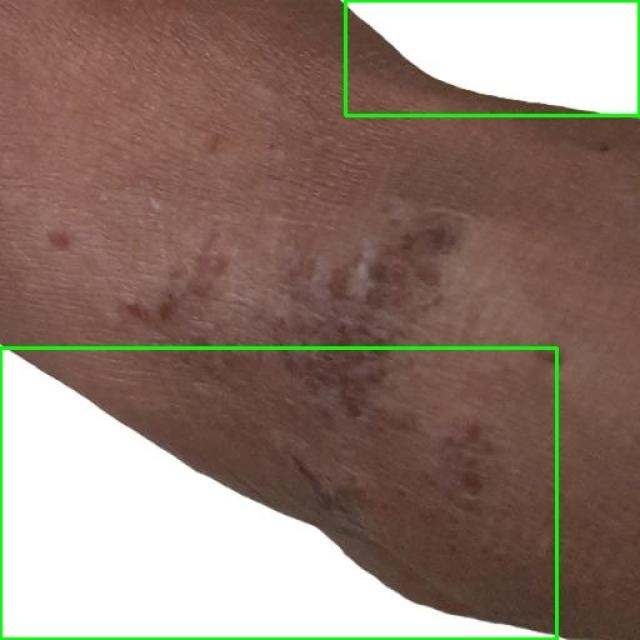Contact Dermatitis: (0, 348, 556, 639), (345, 0, 639, 115)
